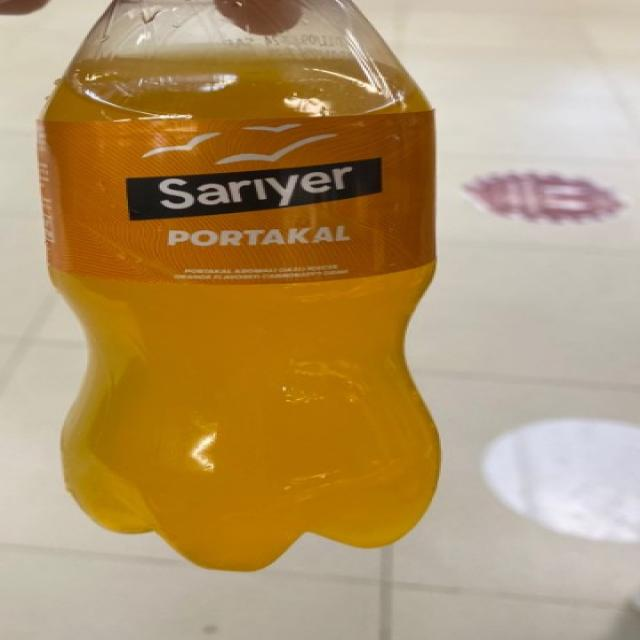yan_yemek: (34, 0, 444, 572)
